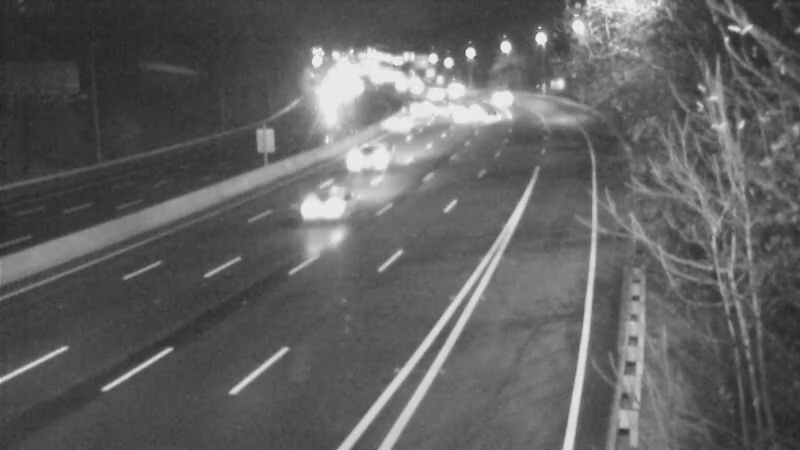vehicle: (328, 119, 408, 199), (279, 168, 359, 248), (477, 75, 527, 125), (420, 89, 470, 139), (394, 86, 444, 136), (462, 93, 512, 143), (440, 87, 490, 137), (373, 96, 423, 146)
